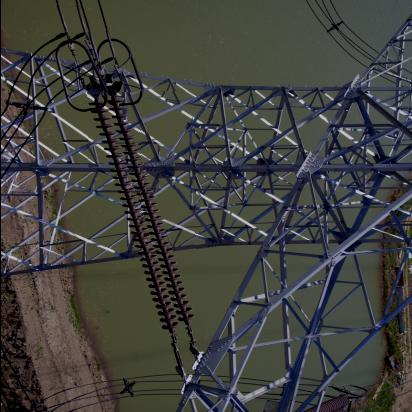insulator: (88, 93, 196, 345)
